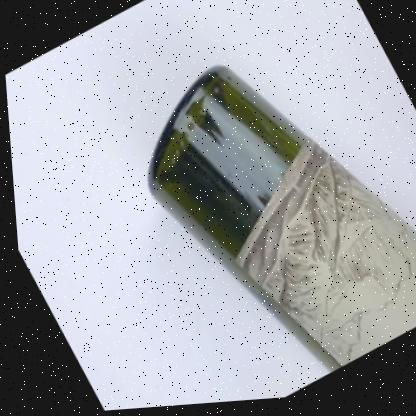Glass: (143, 68, 416, 376)
